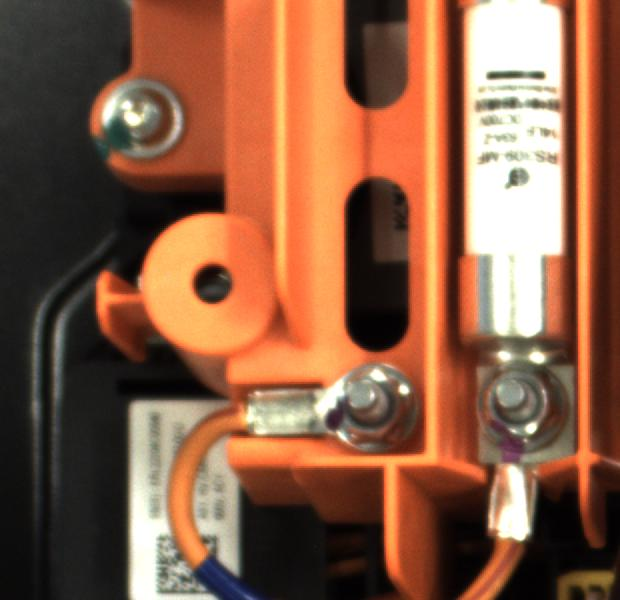screw_m: (95, 70, 202, 171)
screw_s: (464, 357, 580, 459), (328, 363, 417, 443)
